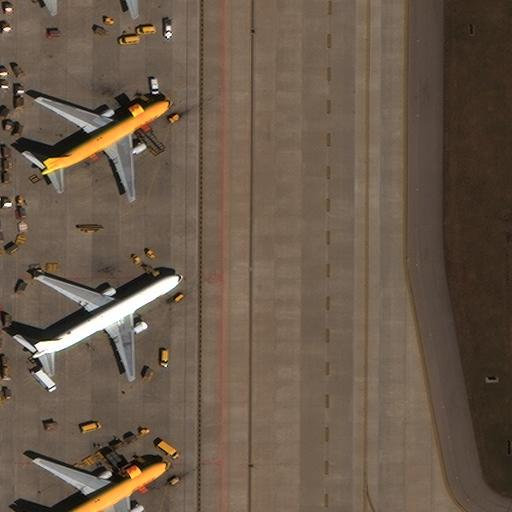Large Civil Transport: (30, 273, 182, 379), (40, 95, 171, 199), (38, 457, 169, 512)
